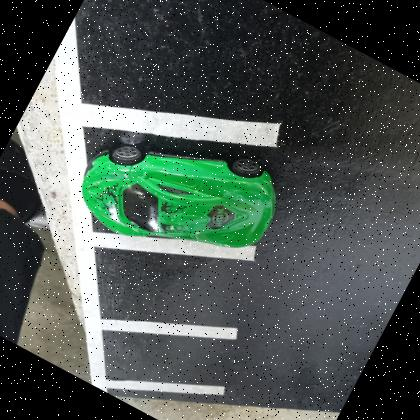Car: (82, 145, 276, 247)
